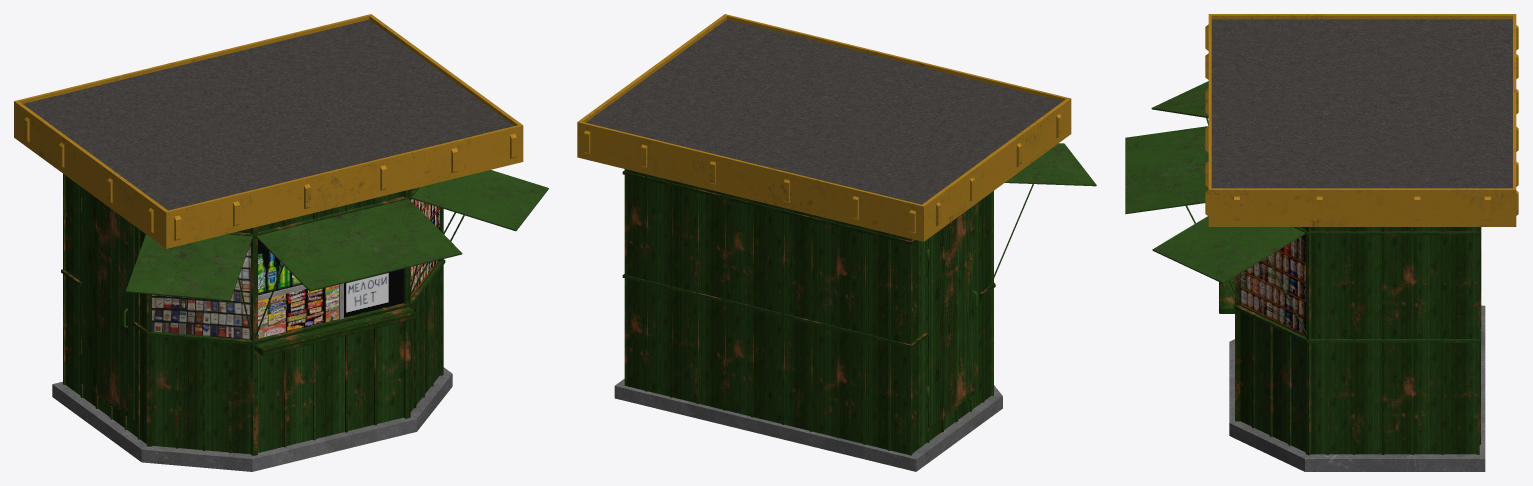
Rendered from stall.glb.
3 views of the same model, side by side, from view 1: azimuth 30°, elevation 25°; view 2: azimuth 150°, elevation 25°; view 3: azimuth 270°, elevation 25° (orthographic). The views are drawn at different scales.
Visible parts, largest first — view 1: Kiosk; view 2: Kiosk; view 3: Kiosk.
Part boxes in pixels (left/top/right/bottom): Kiosk: left=14, top=14, right=548, bottom=471; Kiosk: left=577, top=14, right=1096, bottom=471; Kiosk: left=1125, top=14, right=1518, bottom=471.
Bounding box in the file's own units: 326 × 214 × 260.
Materials: 1 (1 with a texture image).
